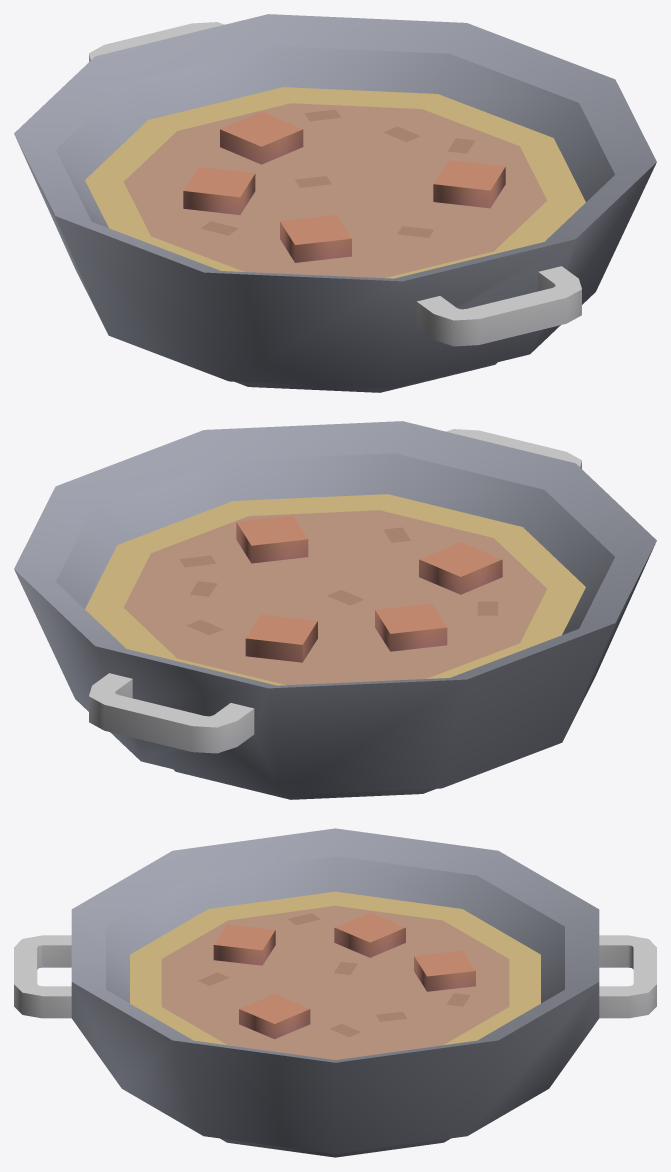
The model's file is pan-stew.glb.
3 views of the same model, one above another, from view 1: azimuth 30°, elevation 25°; view 2: azimuth 150°, elevation 25°; view 3: azimuth 270°, elevation 25° (orthographic). The views are drawn at different scales.
Visible parts, largest first — view 1: pan-stew; view 2: pan-stew; view 3: pan-stew.
Boxes of the visible parts, bbox=[...] form: pan-stew: bbox=[14, 14, 656, 392]; pan-stew: bbox=[14, 421, 656, 799]; pan-stew: bbox=[14, 828, 656, 1157].
Bounding box in the file's own units: 0.6574 × 0.1753 × 0.7621.
